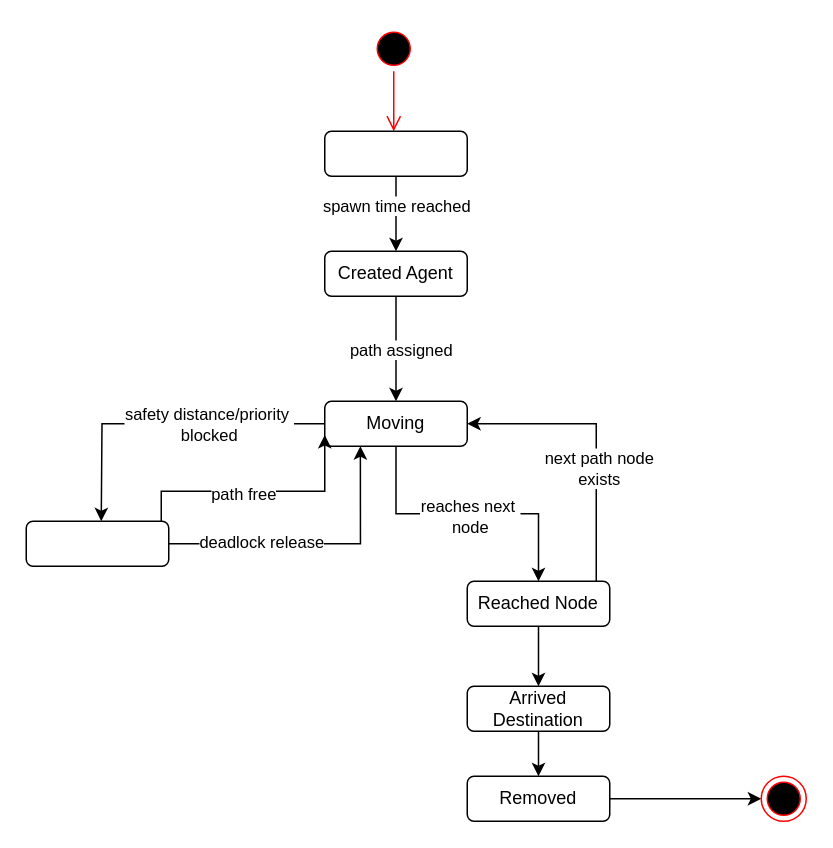
The diagram is 833 pixels wide and 848 high, and some of its shapes have lost their labels. Each missing label, with the centre of its shape:
"Computed path" belongs at pixel 395 153.
"Waiting" belongs at pixel 97 543.
